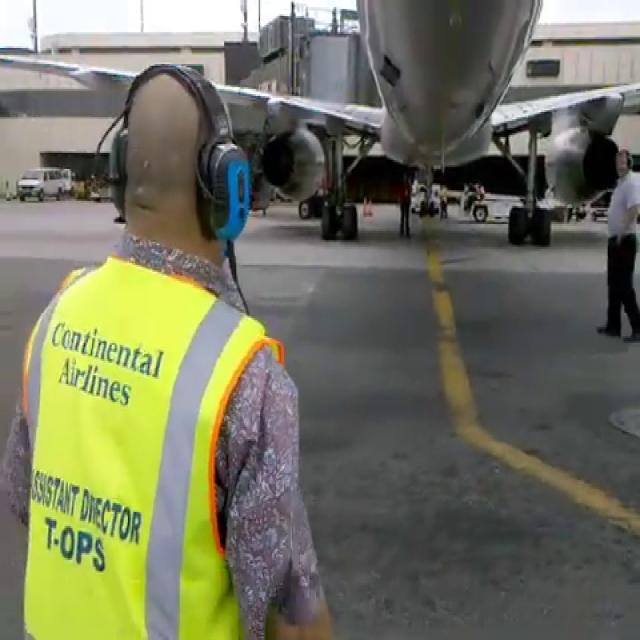earmuff: (198, 131, 253, 238), (106, 121, 130, 222), (612, 142, 632, 174)
